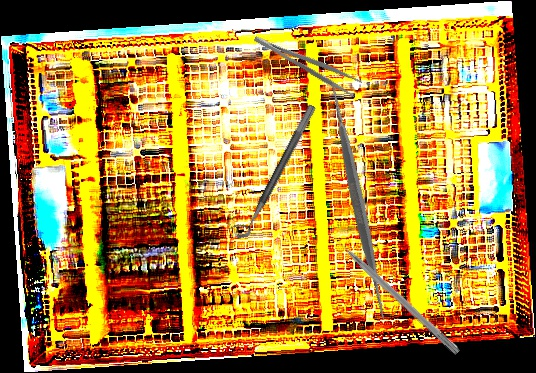Dressing Forceps: (252, 25, 363, 99)
Fixation Ring: (227, 98, 317, 243)
Pusher: (326, 228, 462, 356)
Spatula Surgical: (227, 70, 489, 331)
